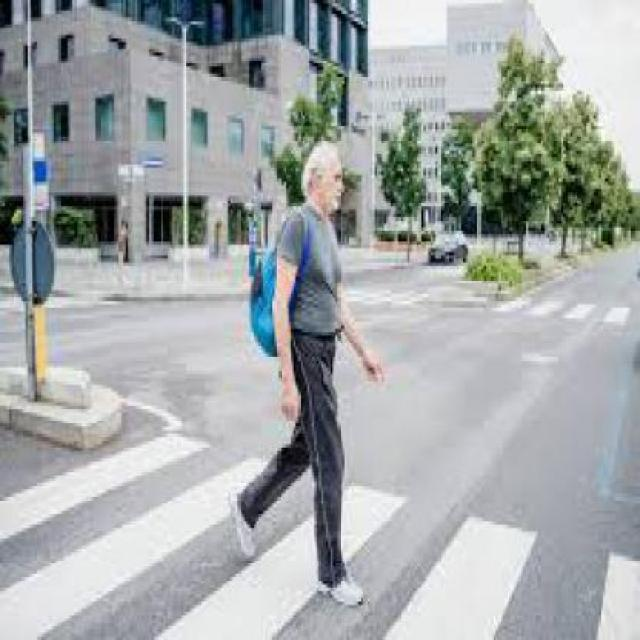Person: (232, 142, 386, 607)
